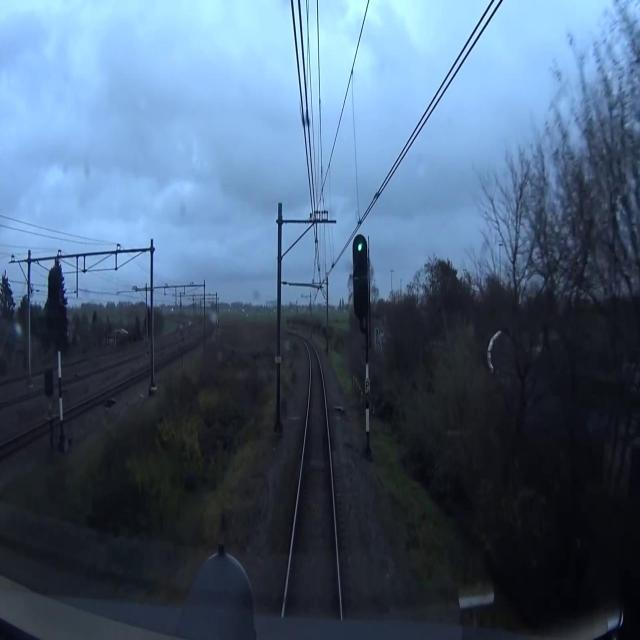rail-track: (283, 342, 340, 639)
